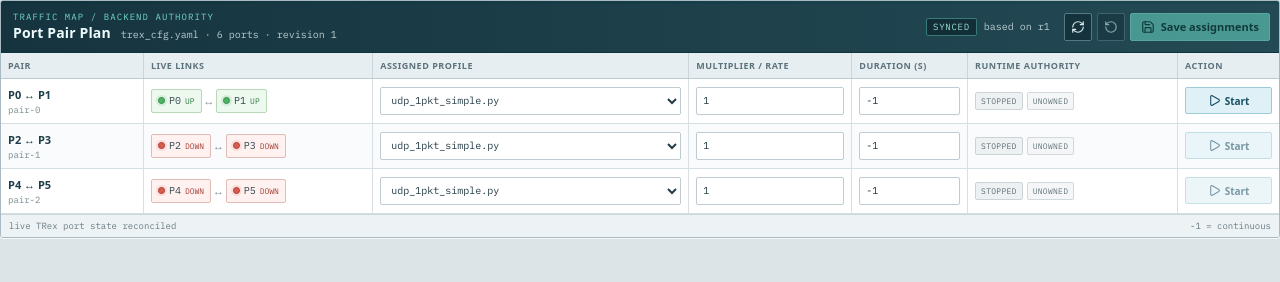
PortPairPlan › confirms a saved group start, posts the group revision, and refreshes managed runtime
What coordinates should you click on to do the following:
click the button with aria-label "Start P0 ↔ P1"
I would click on:
 (1229, 100)
Its box is [1185,87,1272,114].
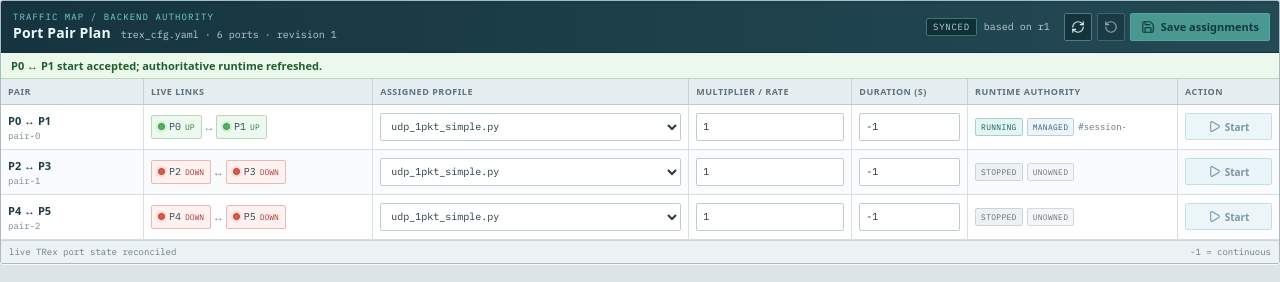
Expected: the message reads "P0 ↔ P1 start accepted; authoritative runtime refreshed.", [11,58,322,73]
Expected: the text "RUNNING" is shown, [975,118,1023,136]
Expected: the text "MANAGED" is shown, [1027,118,1074,136]
